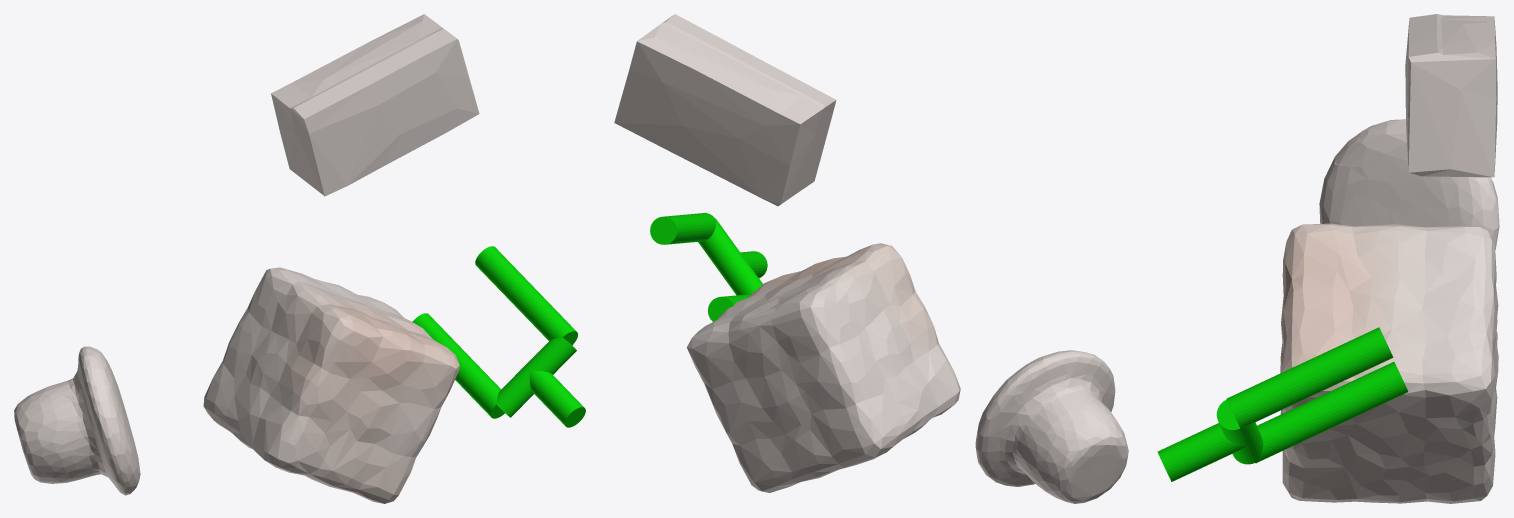
Rendered from round_000_trial_001.obj.
The picture shows the model from 3 angles, left to right: view 1: azimuth 30°, elevation 25°; view 2: azimuth 150°, elevation 25°; view 3: azimuth 270°, elevation 25°; orthographic projection. The views are drawn at different scales.
Parts seen in each view (by area): view 1: geometry_0, geometry_1; view 2: geometry_0, geometry_1; view 3: geometry_0, geometry_1.
Part boxes in pixels (x1=…): geometry_0: x1=14, y1=14, x2=479, y2=503; geometry_1: x1=412, y1=246, x2=585, y2=427; geometry_0: x1=614, y1=14, x2=1128, y2=503; geometry_1: x1=650, y1=213, x2=767, y2=321; geometry_0: x1=1280, y1=14, x2=1499, y2=503; geometry_1: x1=1157, y1=327, x2=1408, y2=481.
Bounding box in the file's own units: 0.209 × 0.1689 × 0.1014.
